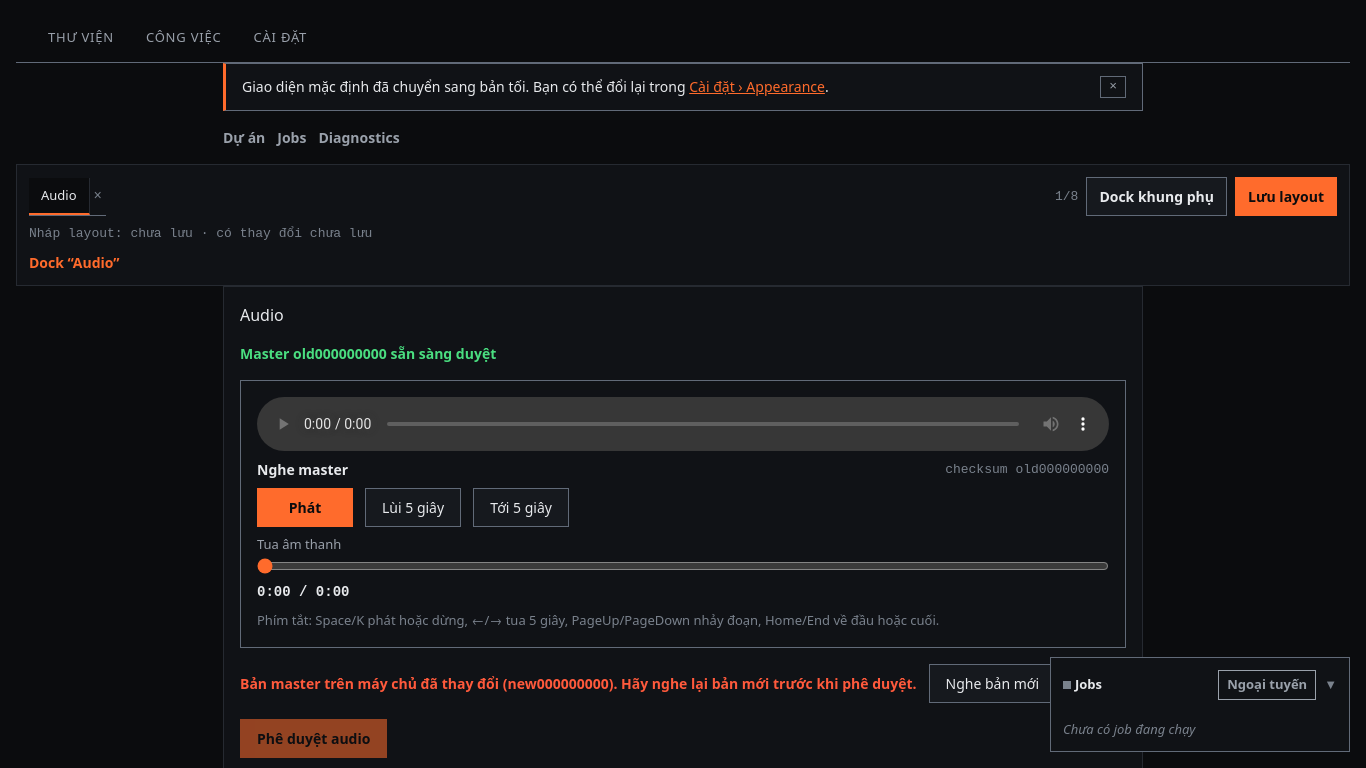
Test: App › chặn phê duyệt và cảnh báo khi master trên máy chủ khác bản đang nghe (A05)
Expected: the text "Bản master trên máy chủ đã thay đổi" is shown, [240, 674, 508, 693]
Expected: the button "Phê duyệt audio" is disabled, [240, 719, 387, 758]
Click the button "Nghe bản mới" at (992, 683), box [928, 664, 1056, 703]
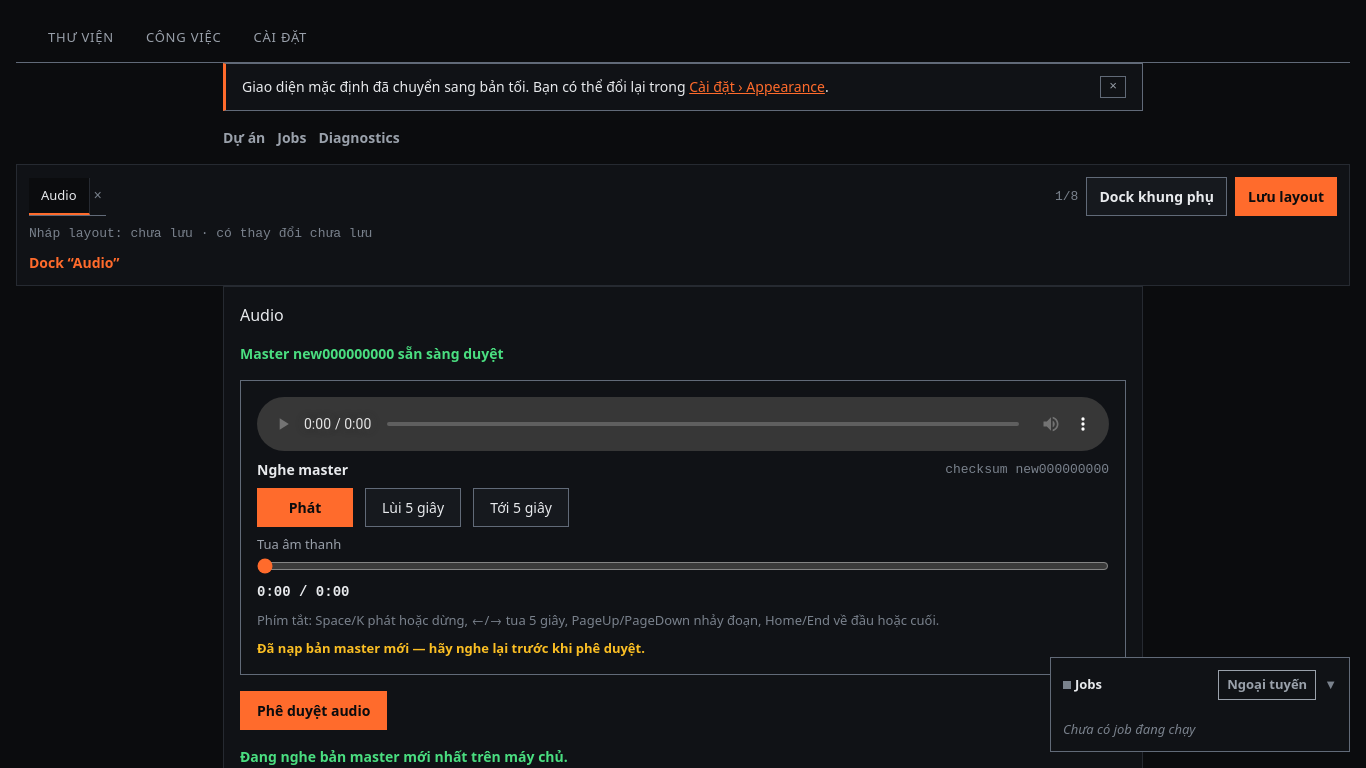
Now the button "Phê duyệt audio" is enabled, box [240, 691, 387, 730]
Now the text "Bản master trên máy chủ đã thay đổi" is gone
